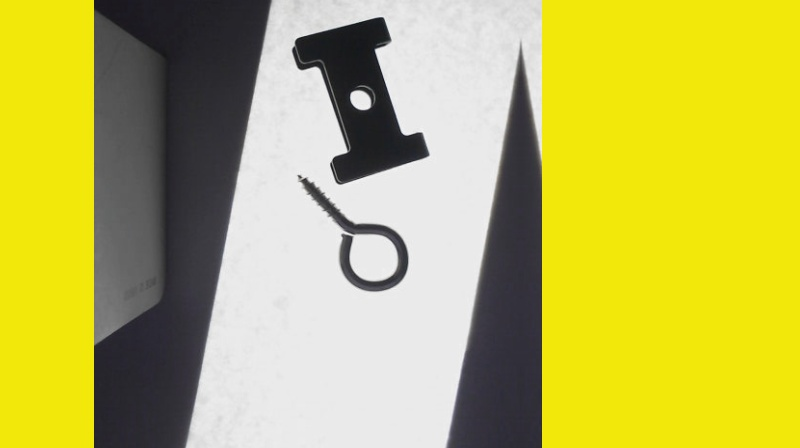O001: (295, 169, 410, 292)
O002: (290, 15, 430, 183)
